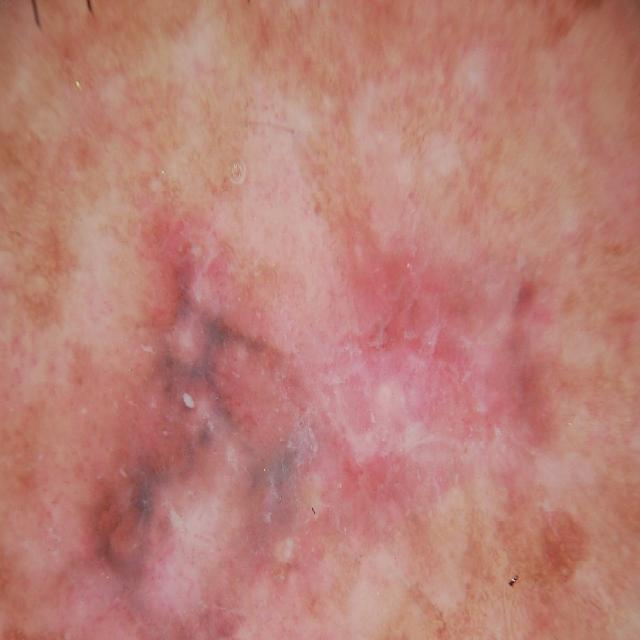Melanoma: (30, 112, 605, 640)
